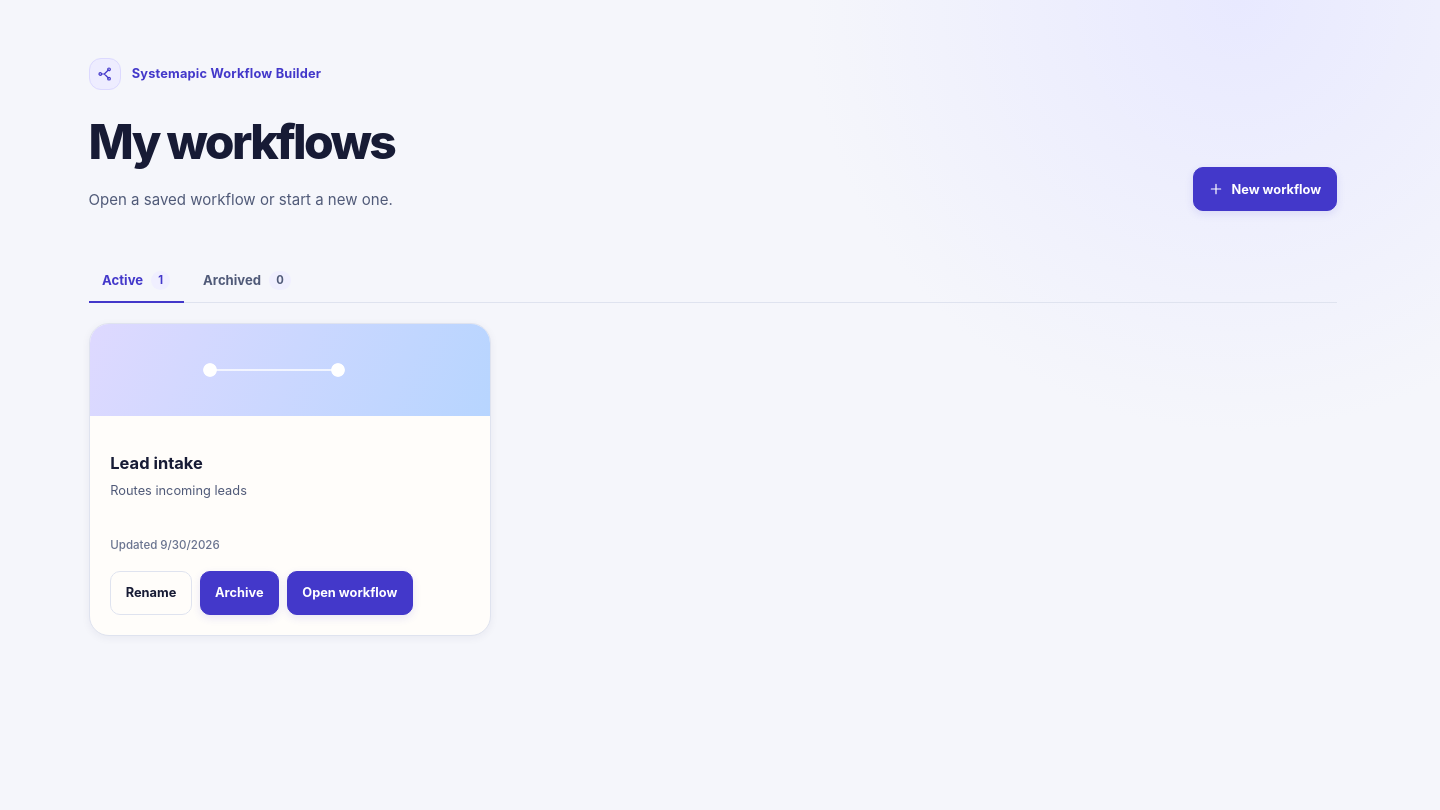
Test: WorkflowLibrary › archives a workflow and refreshes both views without version writes
This screenshot has width=1440, height=810.
Click the button "Archive": x=239, y=593 top-left (200, 571), bottom-right (279, 615)
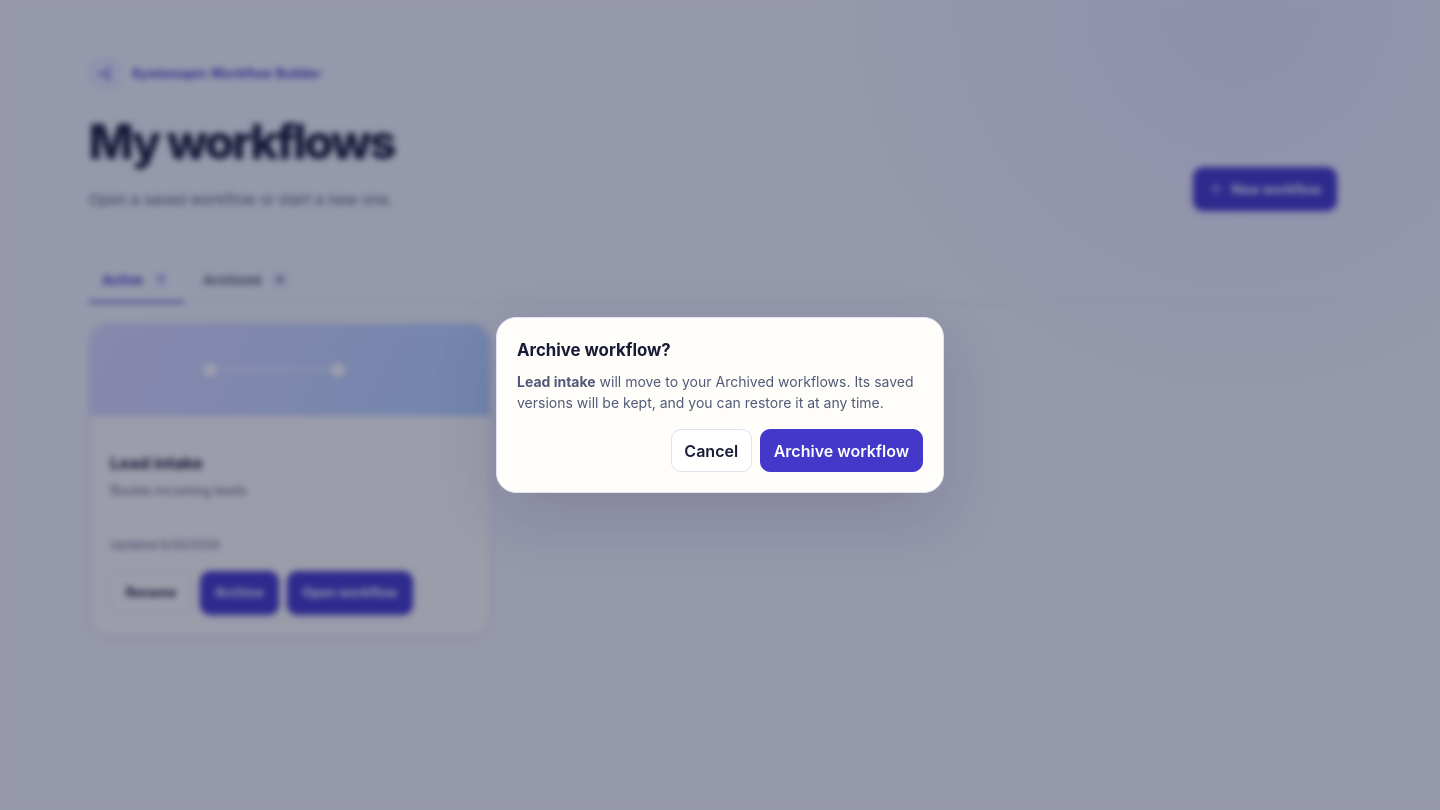
Click the button "Archive workflow": x=841, y=451 top-left (760, 429), bottom-right (923, 472)
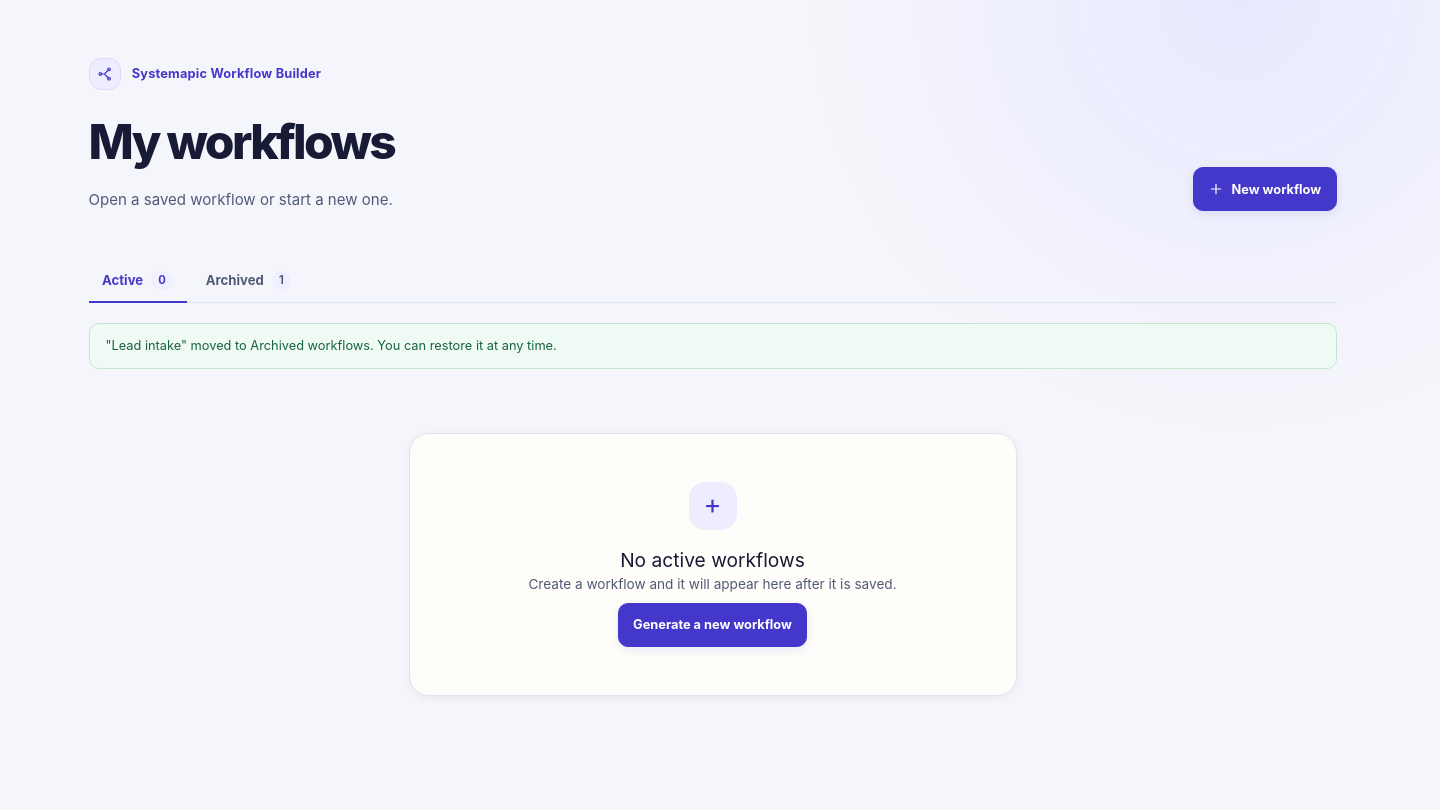
Expected: the dialog is gone
Click the button "Archived 1": x=248, y=281 top-left (192, 259), bottom-right (304, 303)
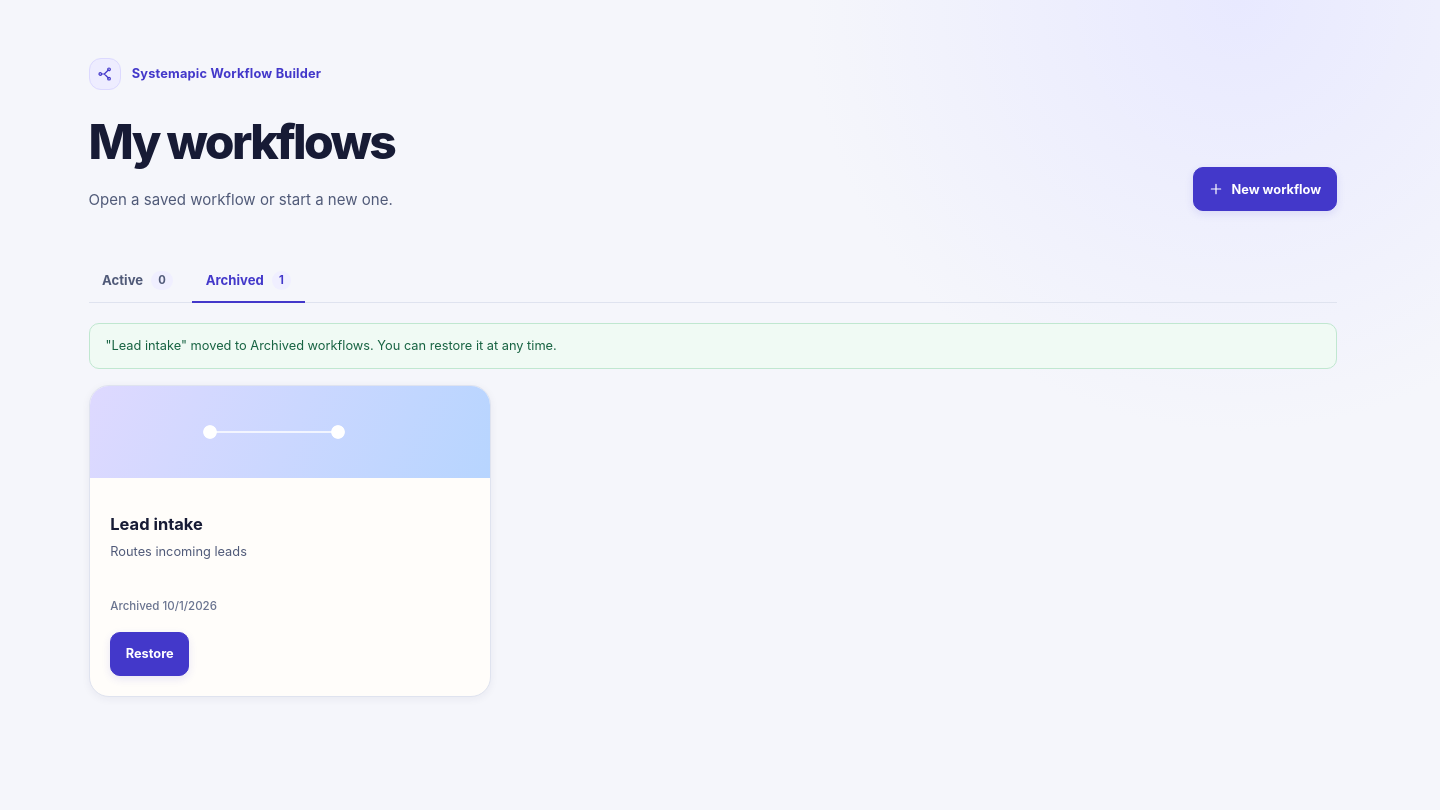
Expected: the text "Archived 10/1/2026" is shown, top-left (110, 599), bottom-right (217, 613)
